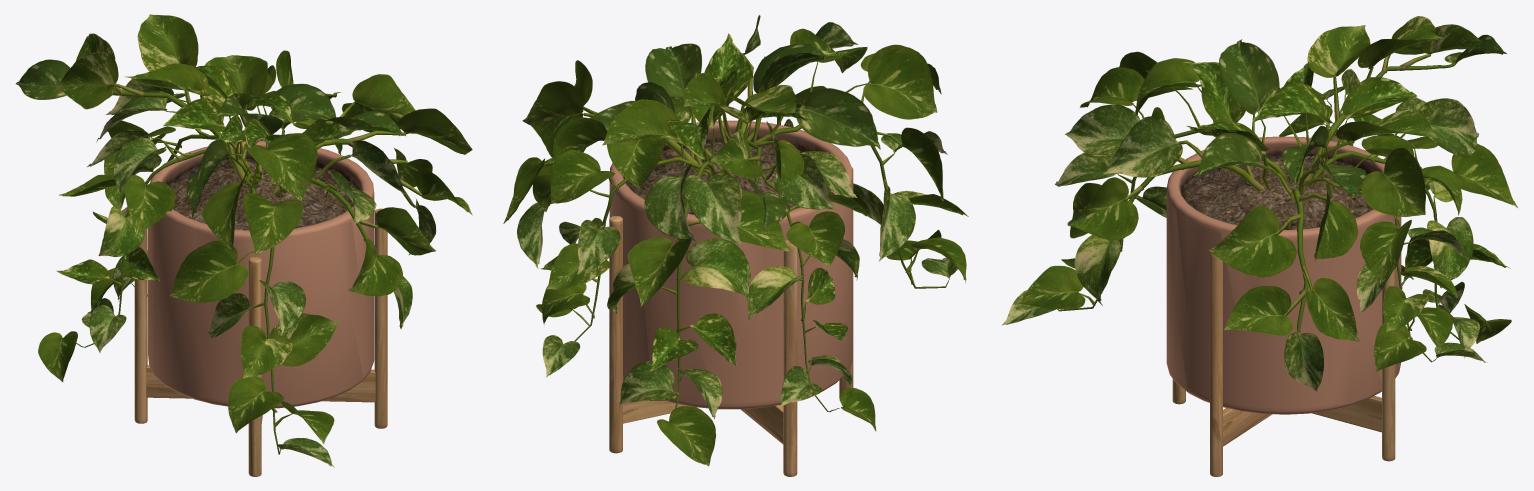
File: free_pothos_potted_plant_-_money_plant.glb
3 renders of one model, left to right at view 1: azimuth 30°, elevation 25°; view 2: azimuth 150°, elevation 25°; view 3: azimuth 270°, elevation 25°, orthographic. The views are drawn at different scales.
Parts seen in each view (by area): view 1: POTHOS_POTHOS_Mat_0, POT_WOOD_LEGS_WOODEN_LEGS_POT_0; view 2: POTHOS_POTHOS_Mat_0, POT_WOOD_LEGS_WOODEN_LEGS_POT_0; view 3: POTHOS_POTHOS_Mat_0, POT_WOOD_LEGS_WOODEN_LEGS_POT_0.
Part boxes in pixels (x1,y1,x2,y2): POTHOS_POTHOS_Mat_0: (16, 14, 472, 467); POT_WOOD_LEGS_WOODEN_LEGS_POT_0: (134, 141, 387, 476); POTHOS_POTHOS_Mat_0: (503, 15, 968, 466); POT_WOOD_LEGS_WOODEN_LEGS_POT_0: (609, 120, 853, 476); POTHOS_POTHOS_Mat_0: (1001, 16, 1517, 391); POT_WOOD_LEGS_WOODEN_LEGS_POT_0: (1166, 136, 1401, 476).
Bounding box in the file's own units: 0.8265 × 0.7916 × 0.9741.
Materials: 2 (2 with a texture image).
